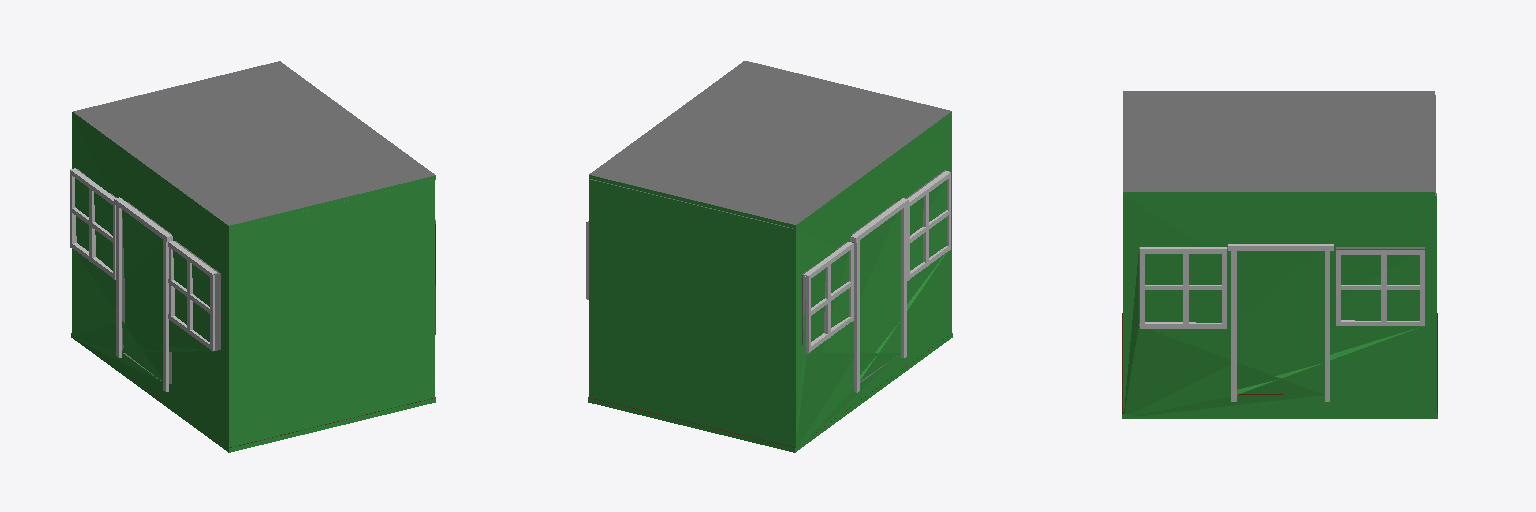
3 views of the same model, side by side, from view 1: azimuth 30°, elevation 25°; view 2: azimuth 150°, elevation 25°; view 3: azimuth 270°, elevation 25° (orthographic).
Visible parts, largest first — view 1: pasted__pCube2 group2, polySurface14 pasted__pCube1 group4, polySurface16 group44_pasted__group1_pasted__pCube2_pasted__poly, pCube1, pasted__pasted__pasted__pasted__pasted__pasted__pCube9 pasted__p, pasted__pasted__pasted__pasted__pasted__pasted__pasted__pCube9 p, polySurface18, group61 pasted__pasted__pCube10 pasted__group59, group61 pasted__pasted__pasted__pCube10 pasted__pasted__group59 , pasted__pasted__pasted__pasted__pasted__pCube9 pasted__pasted__p, pasted__pCube10 group61; view 2: polySurface12 pasted__pasted__pCube2 pasted__group2 group3, polySurface14 pasted__pCube1 group4, polySurface16 group44_pasted__group1_pasted__pCube2_pasted__poly, pCube1, polySurface18, pasted__pasted__pasted__pasted__pasted__pasted__pCube9 pasted__p, pasted__pasted__pasted__pasted__pasted__pasted__pasted__pCube9 p, group61 pasted__pasted__pCube10 pasted__group59, group61 pasted__pasted__pasted__pCube10 pasted__pasted__group59 , pasted__pasted__pasted__pasted__pasted__pCube9 pasted__pasted__p, pasted__pasted__pasted__pasted__pCube9 pasted__pasted__pasted__g, pasted__pCube10 group61; view 3: polySurface18, polySurface14 pasted__pCube1 group4, pCube1, pasted__pasted__pasted__pasted__pasted__pCube9 pasted__pasted__p, pasted__pasted__pasted__pasted__pCube9 pasted__pasted__pasted__g, pasted__pasted__pCube10 pasted__group59 group60, pasted__pasted__pasted__pCube9 pasted__pasted__group45 pasted__g, pasted__pCube10 group59, pCube10.
Boxes of the visible parts, x1,y1,x2,y2 form: pasted__pCube2 group2: [234, 180, 430, 446]; polySurface14 pasted__pCube1 group4: [72, 61, 435, 229]; polySurface16 group44_pasted__group1_pasted__pCube2_pasted__poly: [72, 116, 233, 447]; pCube1: [71, 333, 435, 452]; pasted__pasted__pasted__pasted__pasted__pasted__pCube9 pasted__p: [70, 168, 214, 351]; pasted__pasted__pasted__pasted__pasted__pasted__pasted__pCube9 p: [70, 241, 216, 320]; polySurface18: [431, 180, 435, 397]; group61 pasted__pasted__pCube10 pasted__group59: [116, 205, 121, 357]; group61 pasted__pasted__pasted__pCube10 pasted__pasted__group59 : [163, 240, 168, 391]; pasted__pasted__pasted__pasted__pasted__pCube9 pasted__pasted__p: [113, 204, 435, 334]; pasted__pCube10 group61: [114, 197, 172, 241]; polySurface12 pasted__pasted__pCube2 pasted__group2 group3: [595, 180, 790, 446]; polySurface14 pasted__pCube1 group4: [589, 61, 951, 229]; polySurface16 group44_pasted__group1_pasted__pCube2_pasted__poly: [791, 116, 951, 449]; pCube1: [588, 333, 952, 452]; polySurface18: [586, 179, 594, 398]; pasted__pasted__pasted__pasted__pasted__pasted__pCube9 pasted__p: [803, 177, 950, 353]; pasted__pasted__pasted__pasted__pasted__pasted__pasted__pCube9 p: [811, 171, 950, 350]; group61 pasted__pasted__pCube10 pasted__group59: [854, 240, 859, 392]; group61 pasted__pasted__pasted__pCube10 pasted__pasted__group59 : [901, 206, 906, 357]; pasted__pasted__pasted__pasted__pasted__pCube9 pasted__pasted__p: [849, 190, 928, 321]; pasted__pasted__pasted__pasted__pCube9 pasted__pasted__pasted__g: [586, 223, 830, 337]; pasted__pCube10 group61: [850, 198, 908, 242]; polySurface18: [1124, 193, 1436, 415]; polySurface14 pasted__pCube1 group4: [1123, 91, 1434, 196]; pCube1: [1122, 313, 1437, 418]; pasted__pasted__pasted__pasted__pasted__pCube9 pasted__pasted__p: [1140, 247, 1424, 325]; pasted__pasted__pasted__pasted__pCube9 pasted__pasted__pasted__g: [1140, 250, 1424, 328]; pasted__pasted__pCube10 pasted__group59 group60: [1231, 251, 1236, 401]; pasted__pasted__pasted__pCube9 pasted__pasted__group45 pasted__g: [1222, 250, 1386, 325]; pasted__pCube10 group59: [1325, 251, 1329, 401]; pCube10: [1228, 244, 1333, 250].
Bounding box in the file's own units: 6.71 × 6.33 × 7.98.
Materials: 29 (6 with a texture image).